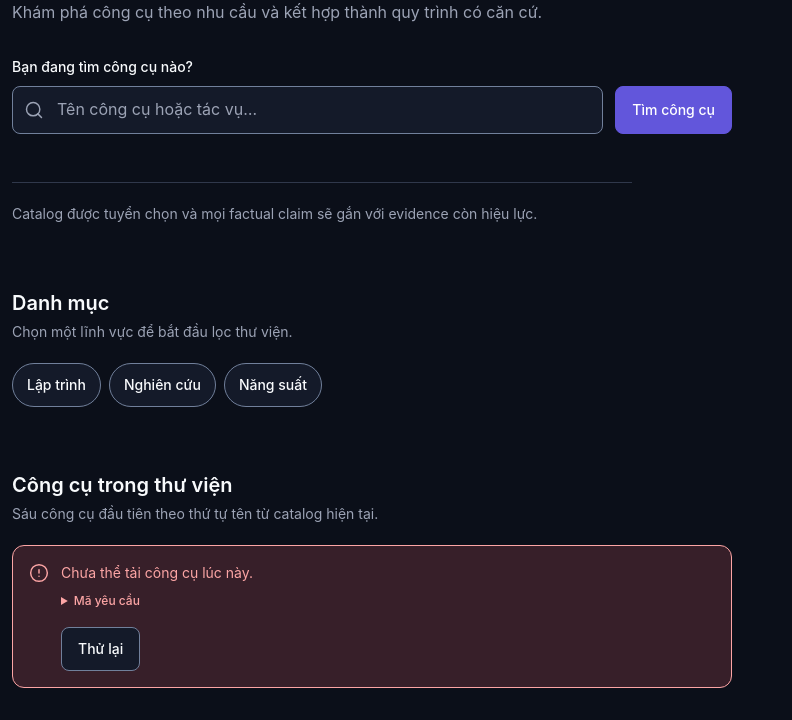
Scenario: Home discovery › shows a sanitized request ID and recovers the failed tool section
(page scrolled)
Check: the text "Chưa thể tải công cụ lúc này." is shown, box [61,564,253,581]
Step 1. Click the button "Thử lại" → (101, 649), box [61,627,140,671]
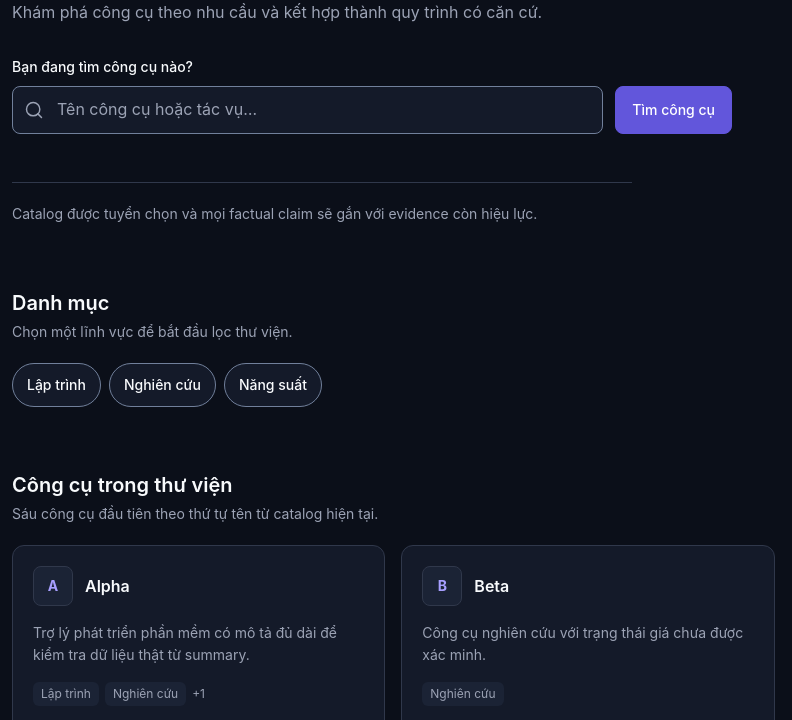
Check: the heading "Alpha" is shown, box [85,576,130,596]
Check: the text "Chưa thể tải công cụ lúc này." is gone
